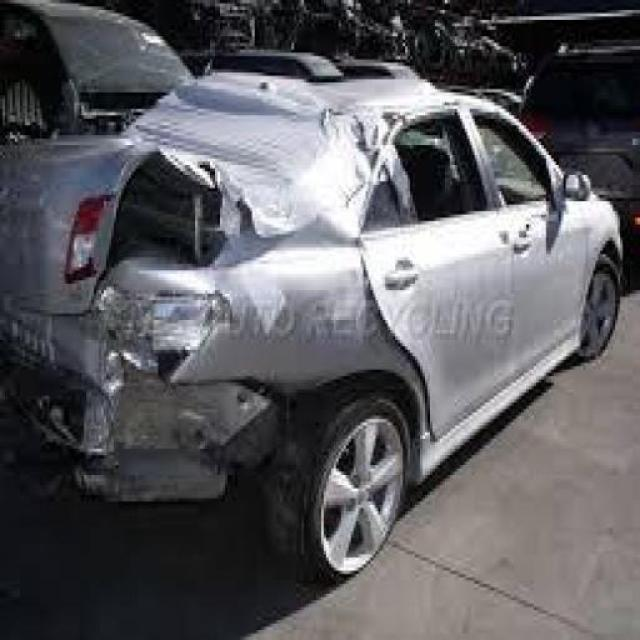crush: (2, 94, 402, 525)
